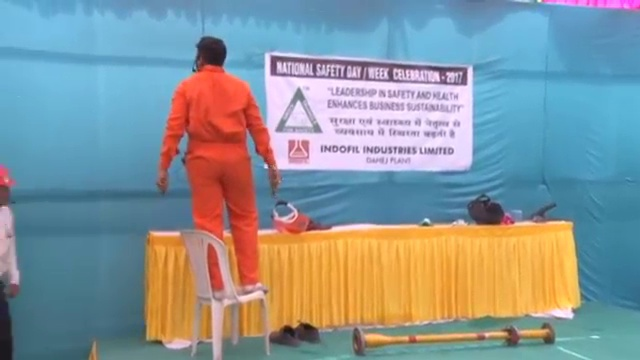helmet: (1, 164, 21, 190)
helmet_off: (190, 37, 228, 71)
helmet_on: (1, 164, 23, 208)
person: (156, 36, 279, 295), (1, 161, 22, 360)
